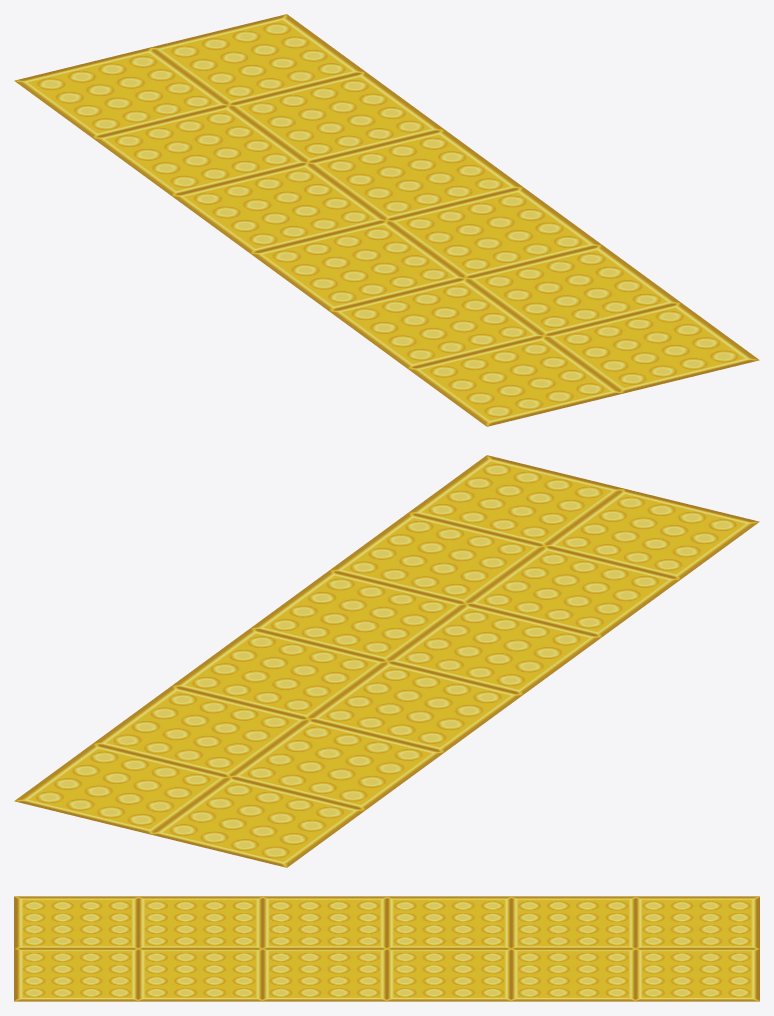
File: my_highlander_01_brailleblock_01.glb
3 views of the same model, one above another, from view 1: azimuth 30°, elevation 25°; view 2: azimuth 150°, elevation 25°; view 3: azimuth 270°, elevation 25° (orthographic). The views are drawn at different scales.
Parts seen in each view (by area): view 1: my_highlander_01_brailleblock_01; view 2: my_highlander_01_brailleblock_01; view 3: my_highlander_01_brailleblock_01.
Part boxes in pixels (x1,y1,x2,y2): my_highlander_01_brailleblock_01: (14, 14, 759, 426); my_highlander_01_brailleblock_01: (14, 455, 759, 867); my_highlander_01_brailleblock_01: (14, 896, 759, 1001).
Size of the model in its own units: 0.00538 by 0 by 0.0161.
1 material, 1 textured.
